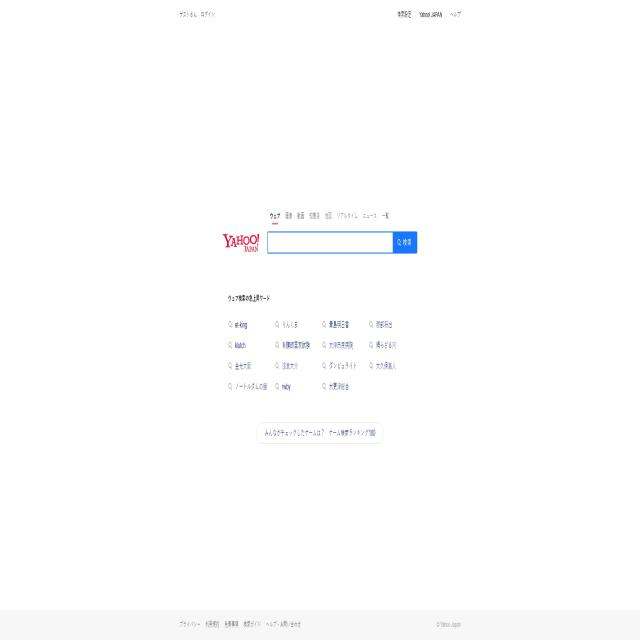menu-bar: (392, 6, 464, 22), (176, 6, 218, 20)
search: (266, 228, 420, 260)
tab-bar: (266, 208, 389, 226)
